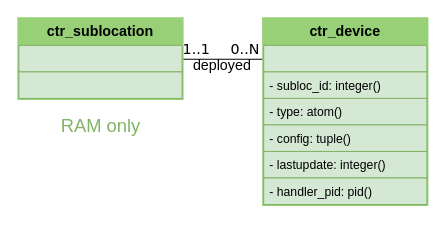
The diagram is 446 pixels wide and 225 high, and some of its shapes have lost their labels. Each missing label, with the centre of its shape:
"- dev_id : integer()" goes at pixel 345 58.
"- devlist: integer()" goes at pixel 100 84.
"- subloc_id : integer()" goes at pixel 100 58.
